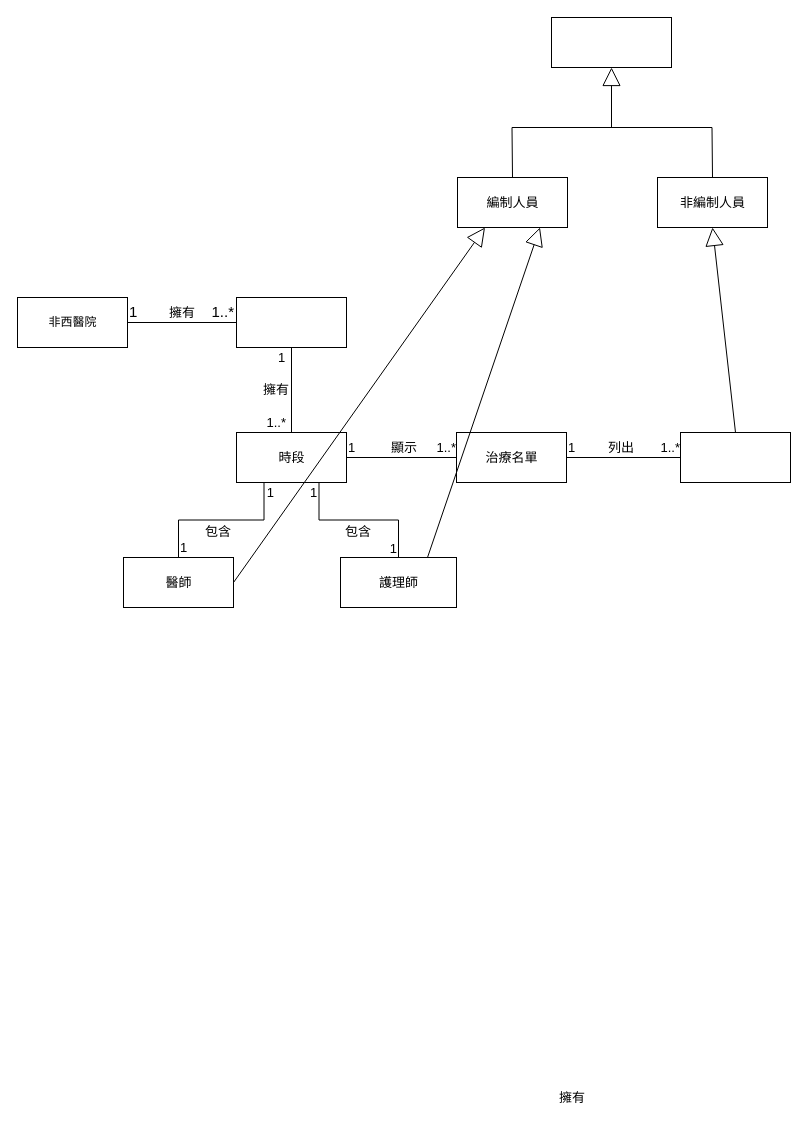
The diagram is 808 pixels wide and 1125 high, and some of its shapes have lost their labels. The centre of each missing label's shape, as x and y in pixels:
人員名單: point 611,42
病人: point 735,457
診間: point 291,322
